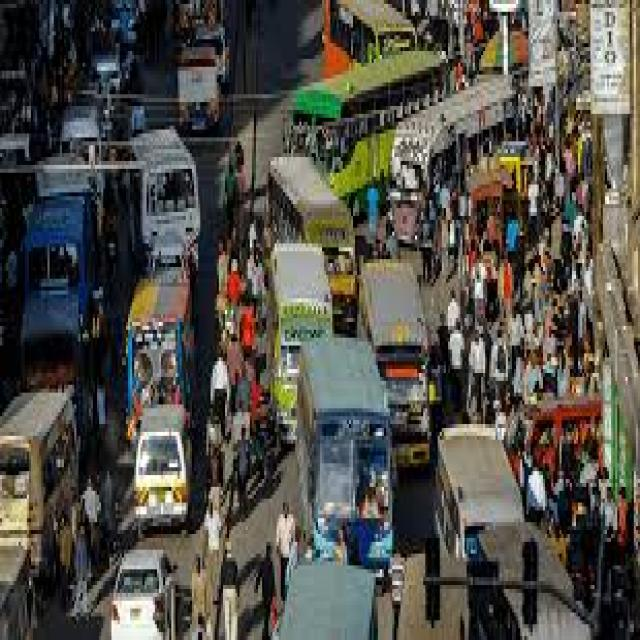bus: (296, 340, 392, 550), (21, 195, 109, 349), (125, 253, 210, 382), (399, 260, 441, 466), (130, 130, 206, 239), (293, 79, 367, 178), (394, 115, 451, 243), (328, 0, 429, 64), (264, 224, 288, 443), (320, 193, 364, 299)
matatu: (1, 370, 89, 546), (448, 441, 536, 566), (130, 403, 199, 534)
